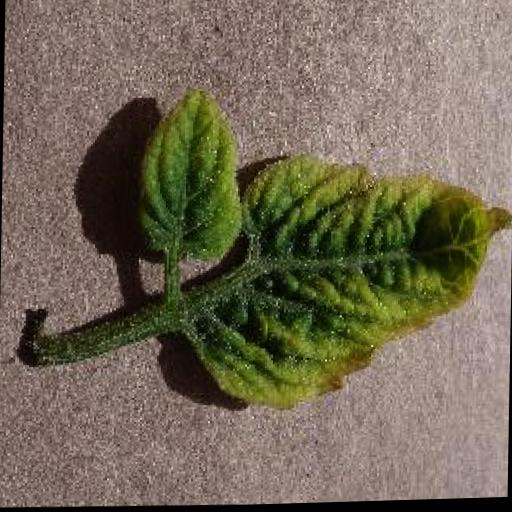Yellow Leaf Curl Virus: (185, 149, 512, 415), (137, 89, 246, 263)
